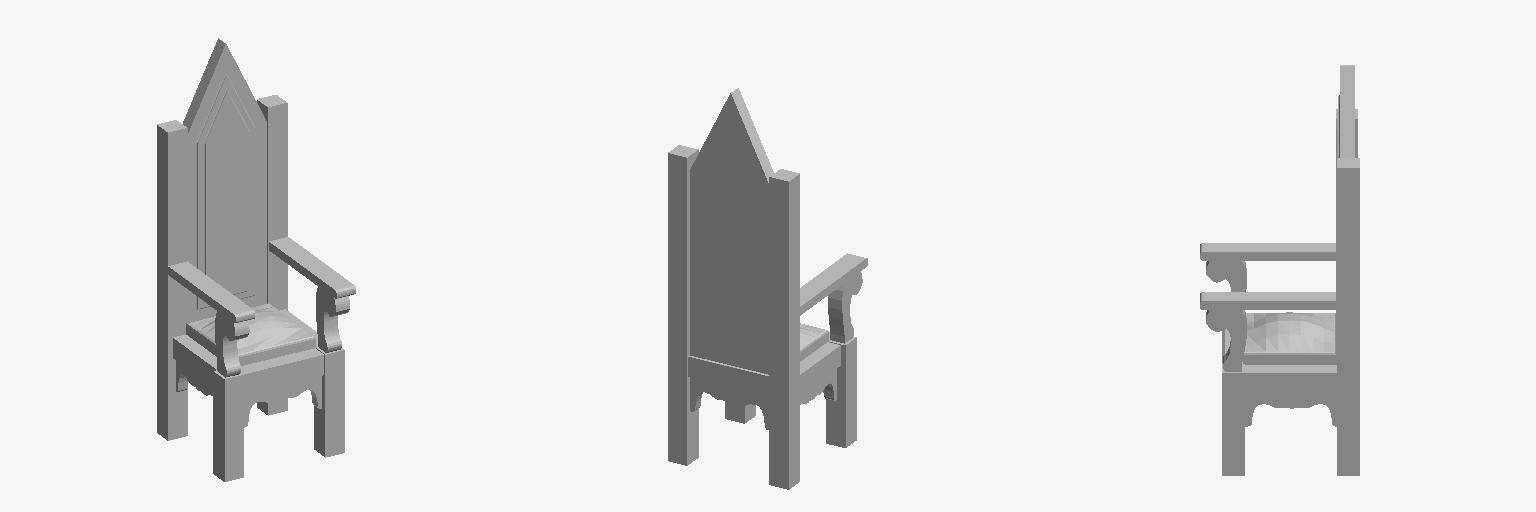
The model's file is Throne(FBX).obj.
3 views of the same model, side by side, from view 1: azimuth 30°, elevation 25°; view 2: azimuth 150°, elevation 25°; view 3: azimuth 270°, elevation 25° (orthographic).
Parts seen in each view (by area): view 1: Box012, Box003, Box004, Box007, Box015, Box002, Box010, Box017, Box016, Line005, Line006, Box009 (+2 smaller); view 2: Box012, Box003, Box004, Box015, Box014, Box016, Line005, Box009, Object004, Box007, Line004; view 3: Box004, Box007, Box013, Box017, Box016, Box002, Box012, Line006, Line005, Line002, Object002.
Part boxes in pixels (x1,y1,x2,y2): Box012: (183, 38, 266, 322); Box003: (157, 120, 187, 440); Box004: (257, 95, 287, 415); Box007: (186, 303, 315, 365); Box015: (213, 370, 243, 481); Box002: (314, 346, 344, 457); Box010: (241, 348, 323, 394); Box017: (269, 237, 355, 298); Box016: (168, 261, 254, 322); Line005: (215, 311, 249, 377); Line006: (316, 287, 349, 352); Box009: (173, 334, 216, 386); Box012: (690, 88, 773, 374); Box003: (769, 169, 799, 489); Box004: (668, 145, 698, 465); Box015: (826, 336, 856, 447); Box014: (688, 356, 768, 396); Box016: (800, 253, 867, 315); Line005: (828, 272, 862, 343); Box009: (800, 342, 840, 394); Object004: (690, 378, 729, 411); Box007: (800, 323, 828, 361); Line004: (730, 387, 768, 429); Box004: (1337, 158, 1359, 475); Box007: (1243, 312, 1335, 364); Box013: (1245, 365, 1336, 392); Box017: (1200, 292, 1335, 309); Box016: (1200, 243, 1335, 260); Box002: (1222, 363, 1244, 475); Box012: (1337, 65, 1354, 157); Line006: (1206, 310, 1246, 371); Line005: (1206, 261, 1246, 291); Line002: (1245, 393, 1291, 426); Object002: (1292, 393, 1336, 426).
Size of the model in its own units: 36.3 by 110 by 41.76.